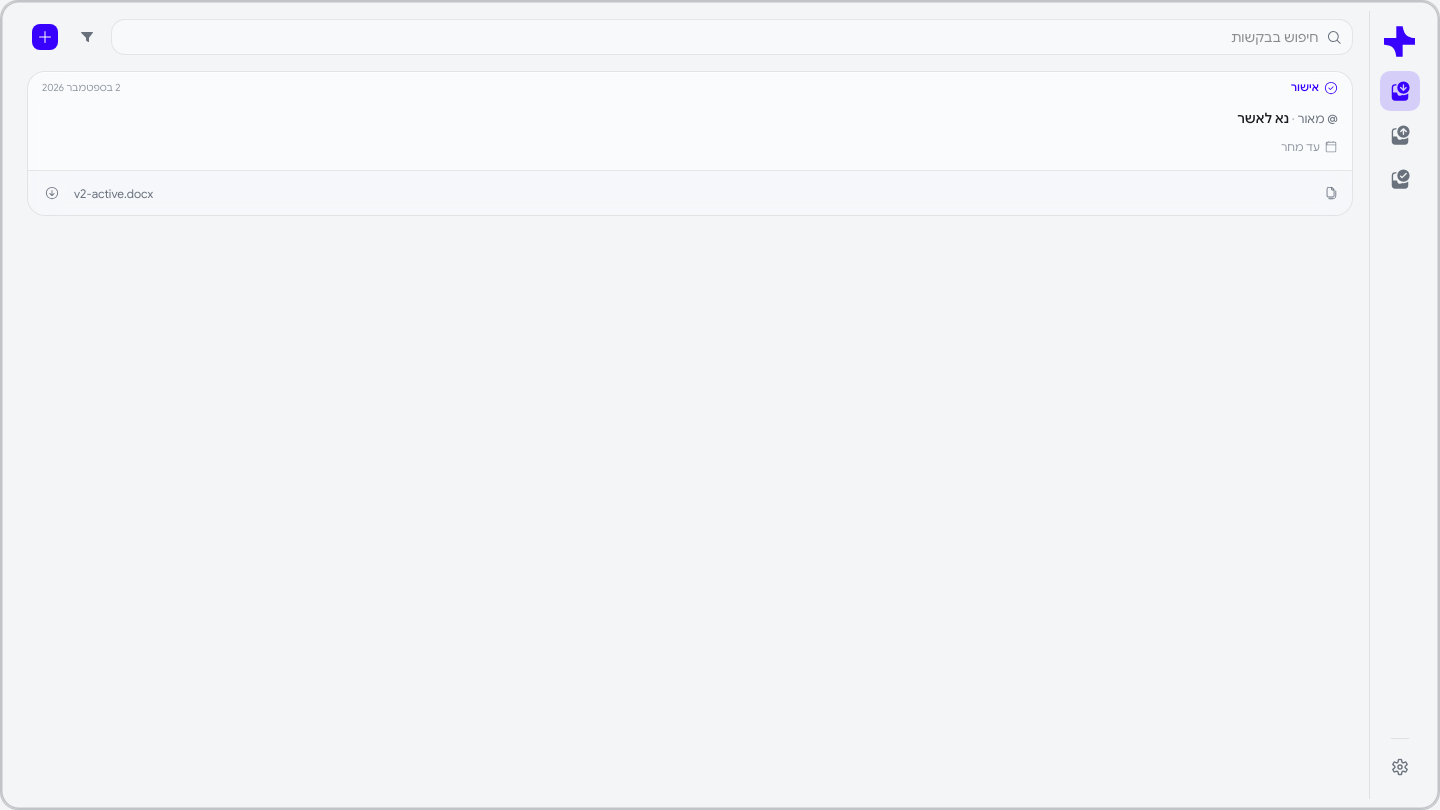
Inbox UI › opens and closes the compose sheet
The image size is (1440, 810).
Click the button named "בקשה חדשה".
click(45, 37)  # box [27,19,63,55]
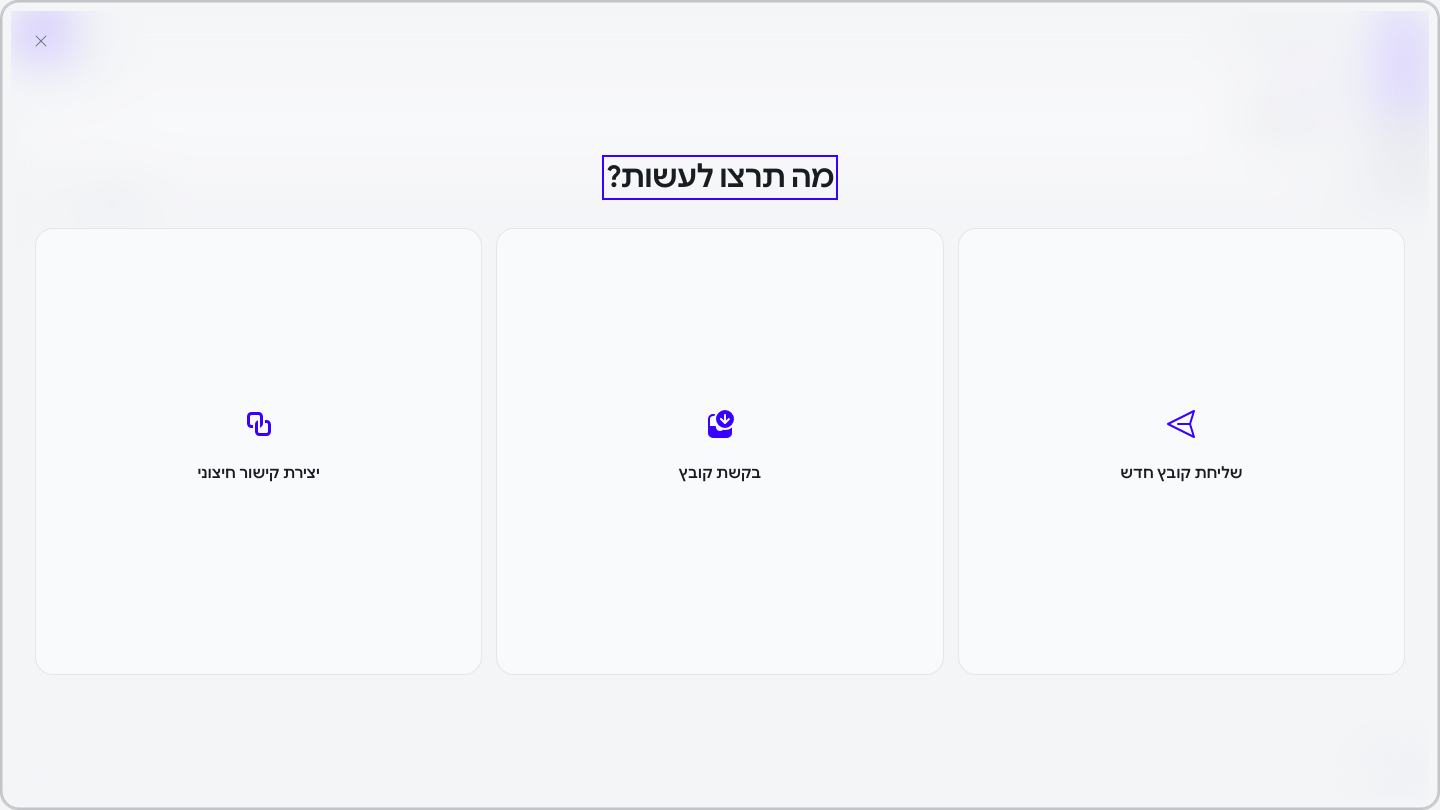
expect the dialog "מה תרצו לעשות?" is shown: met
Click the button named "סגירה".
click(41, 41)  # box [23,23,59,59]
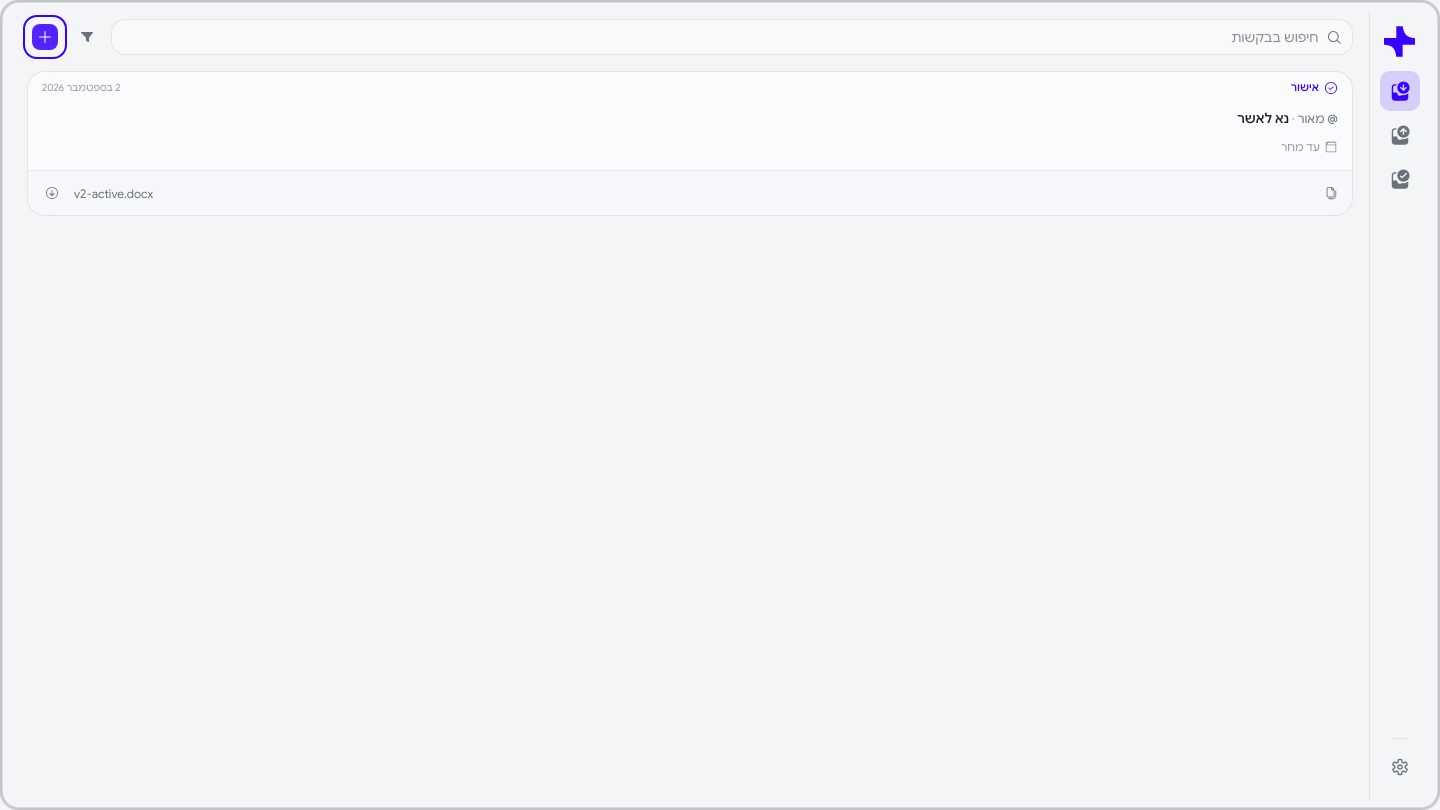
expect the heading "מה תרצו לעשות?" is gone: met
